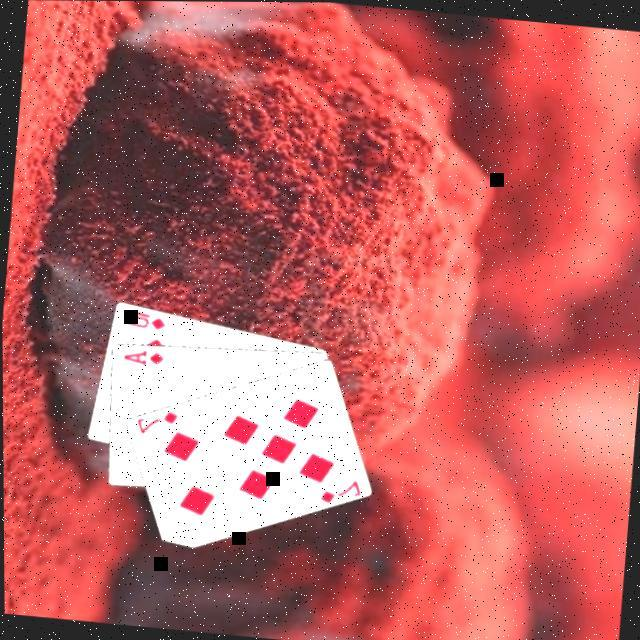10D: (121, 306, 169, 334)
7D: (132, 406, 181, 442), (316, 475, 364, 509)
AD: (119, 346, 166, 372)
